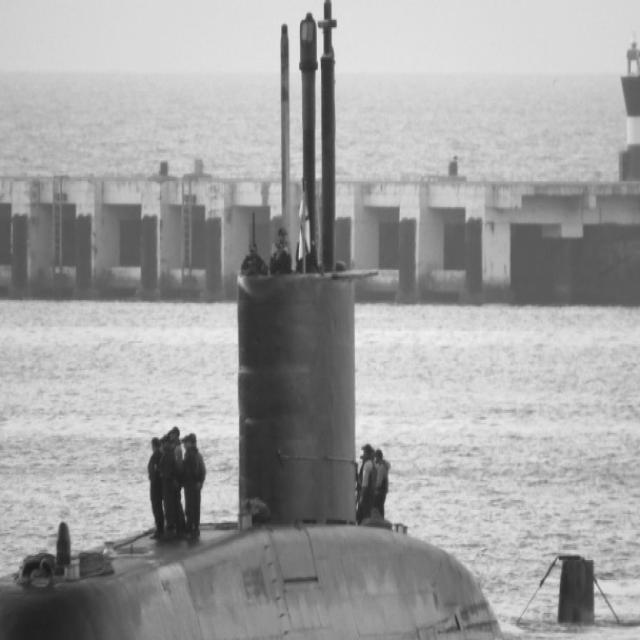submarine: (1, 1, 620, 640)
